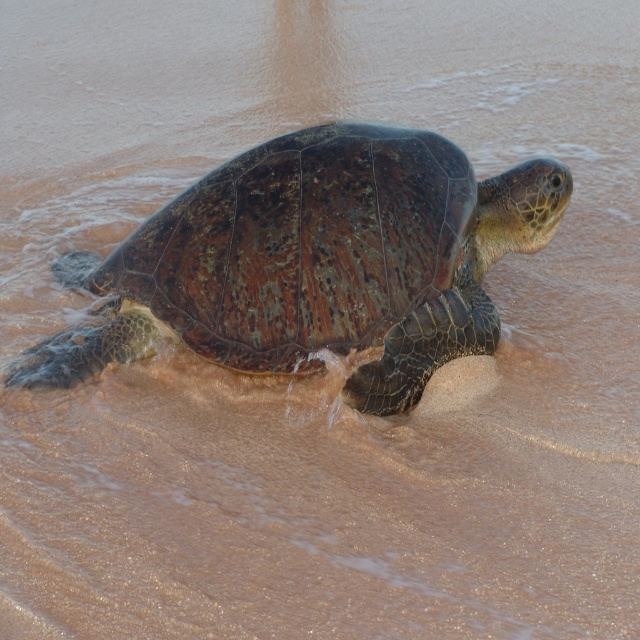Sea turtle: (3, 121, 575, 420)
